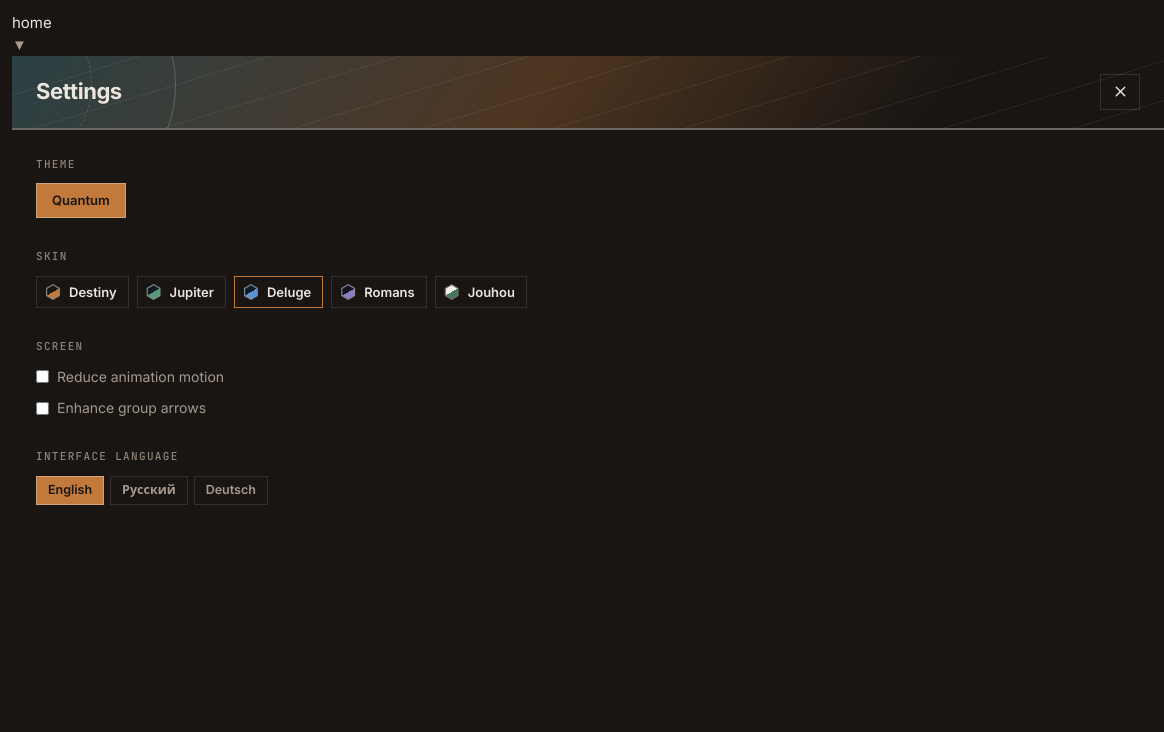
it: SettingsScreen › switching to Deutsch changes Settings’ own copy too
Step 1. Click the button "Deutsch" → click(231, 490), box [194,476,268,505]
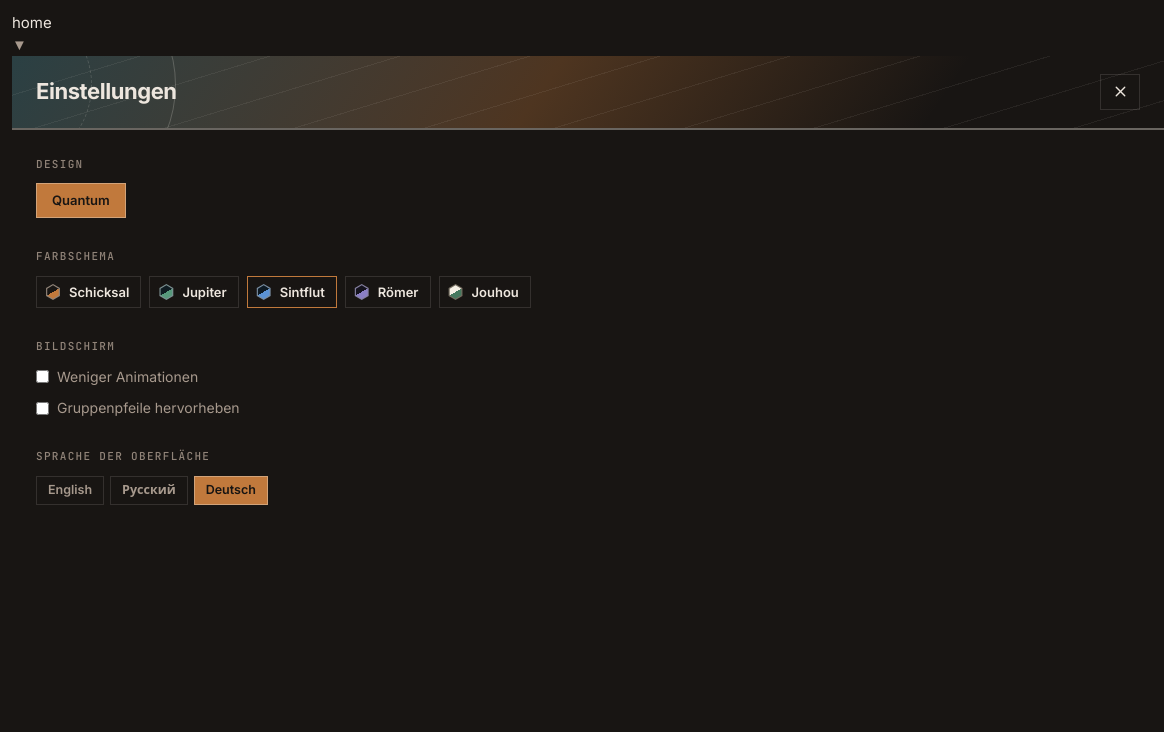
Expected: the heading "Einstellungen" is shown, [36,80,177,103]
